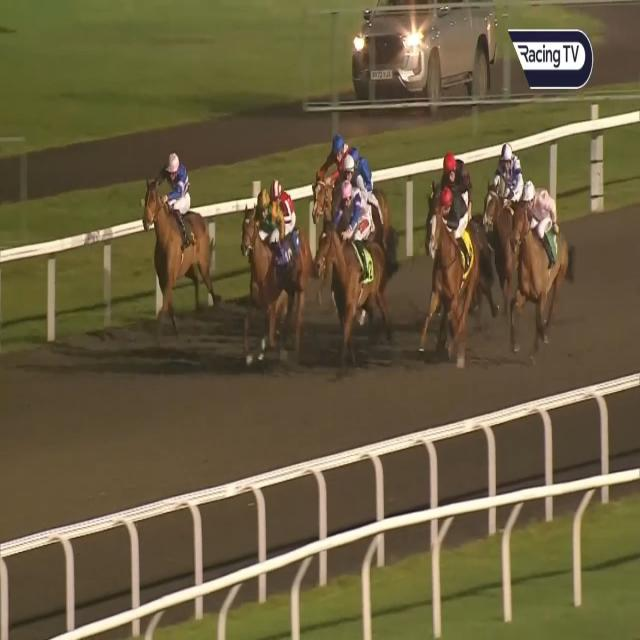horses-racing: (137, 152, 213, 309), (506, 177, 574, 346), (418, 182, 483, 351), (233, 190, 308, 330), (326, 179, 386, 352), (484, 135, 522, 259), (311, 131, 348, 212), (346, 137, 374, 186), (438, 150, 470, 192), (270, 177, 294, 232), (333, 161, 369, 195)
